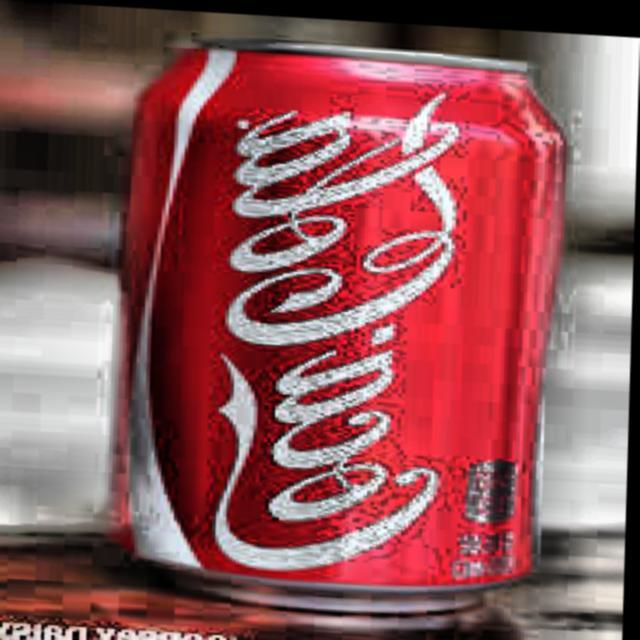can: (122, 26, 559, 602)
